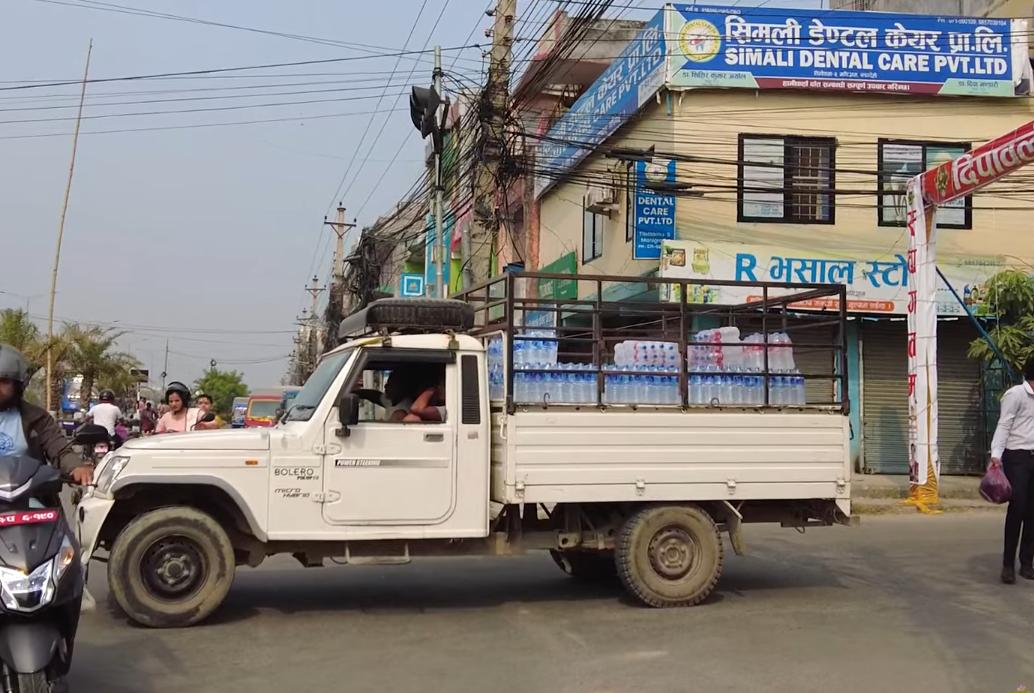scooter: (0, 335, 97, 693)
transport_vehicle: (61, 231, 855, 619)
